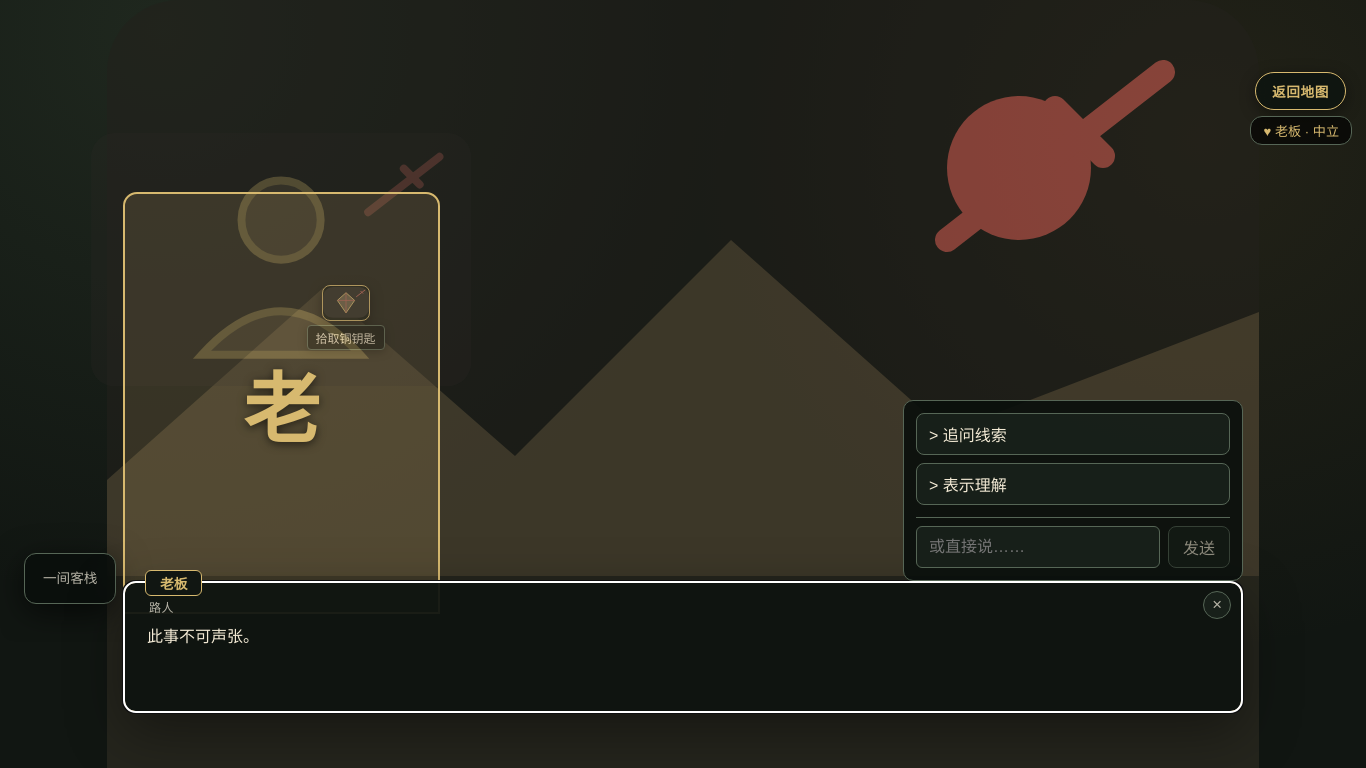
AdventureGameShell canonical opaque choices › keeps quest status out of the location side note and identifies the place clearly
对话打开时旁注整条隐藏，先本地关闭再断言旁注内容净化规则。
Click the button named "关闭对话" at (1217, 605), box 1203,591 -> 1231,619
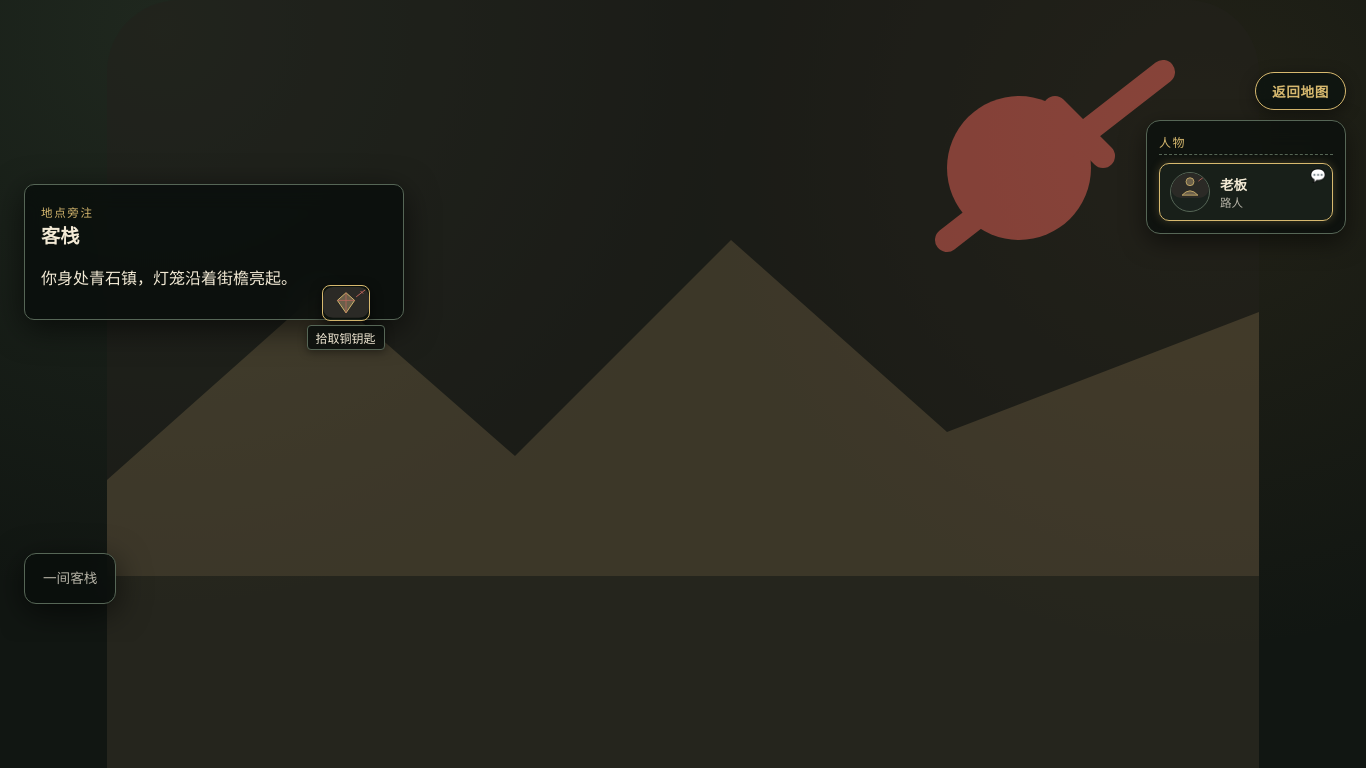
Expected: the element "地点旁注" does not show "当前目标", 24,184 -> 404,320
Now the element "地点旁注" shows "客栈", box 41,226 -> 79,247
Now the element "地点旁注" shows "你身处青石镇，灯笼沿着街檐亮起。", box 41,270 -> 297,287
